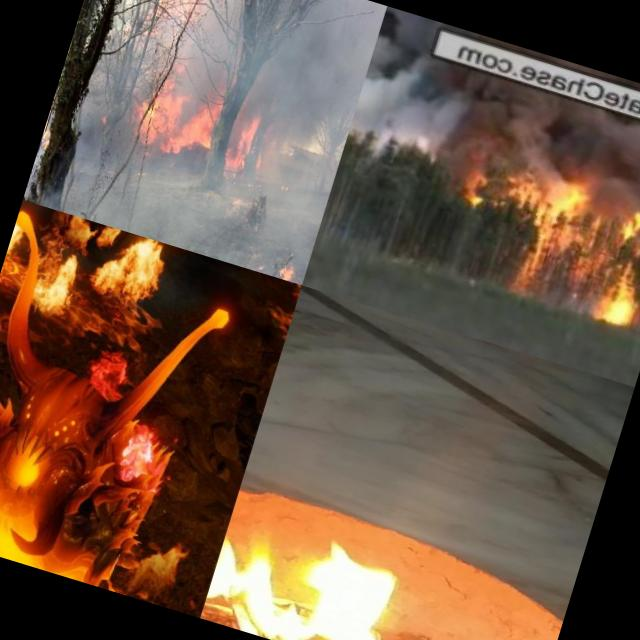fire: (447, 150, 640, 330), (199, 494, 430, 640), (20, 226, 109, 322), (133, 78, 225, 165), (26, 241, 88, 323), (219, 103, 275, 182), (0, 204, 33, 318), (272, 251, 303, 281)
smoke: (237, 0, 386, 259), (36, 124, 252, 262), (348, 39, 521, 178), (224, 0, 315, 113), (500, 85, 605, 182), (97, 0, 213, 87), (172, 0, 263, 102), (577, 110, 640, 236), (68, 60, 152, 146)
